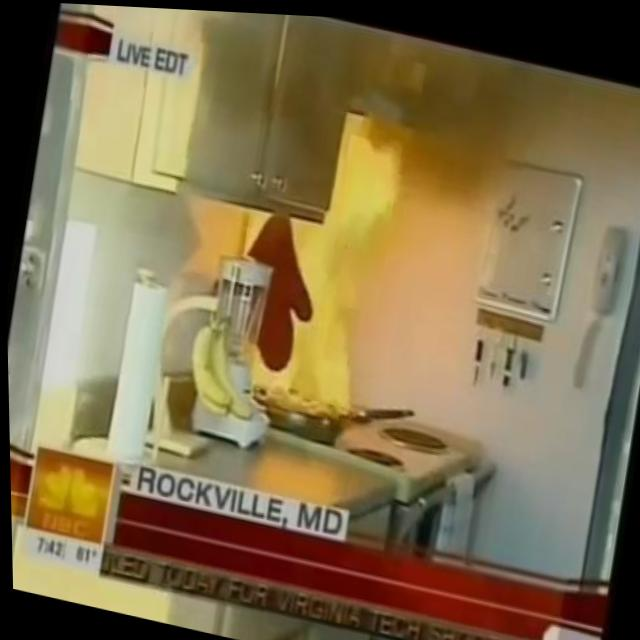fire: (260, 209, 381, 417)
